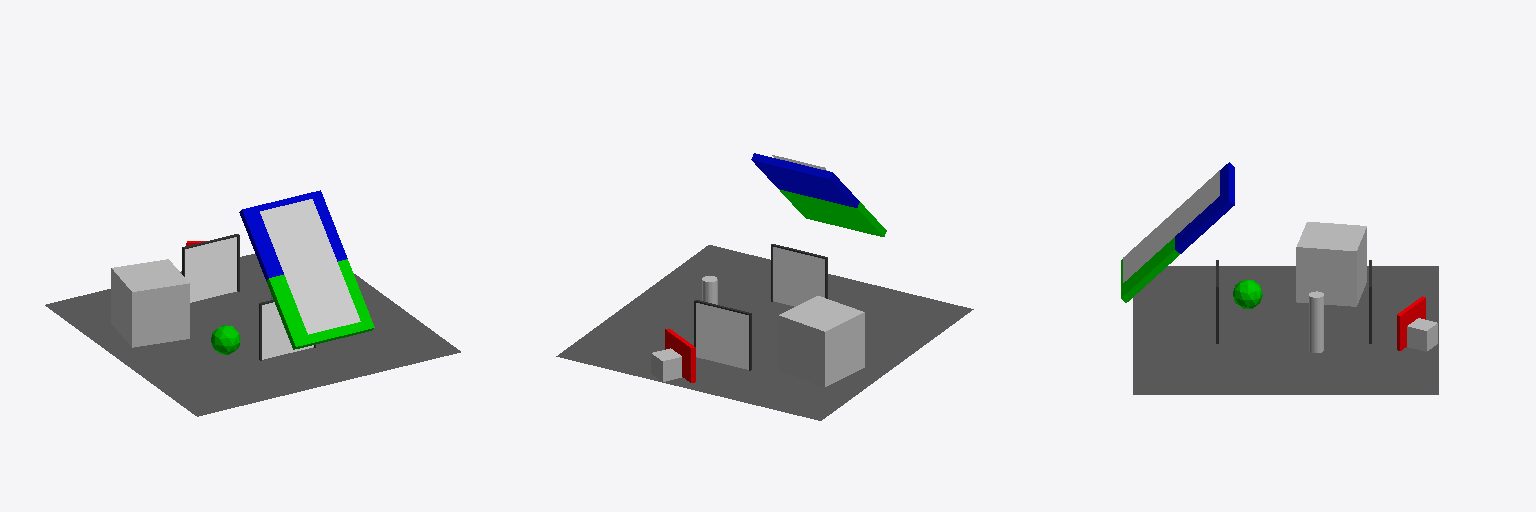
The picture shows the model from 3 angles: view 1: azimuth 30°, elevation 25°; view 2: azimuth 150°, elevation 25°; view 3: azimuth 270°, elevation 25°; orthographic projection.
Parts seen in each view (by area): view 1: Floor, Plane, Gold_Cube.002, Cube, Plane.004, Cube.001, Plane.001, Emerald; view 2: Floor, Gold_Cube.002, Plane.004, Cube.001, Plane.001, Cube, Gold_Cube.001, Cube.002; view 3: Floor, Gold_Cube.002, Plane, Cube.001, Cube, Pillar, Gold_Cube.001, Cube.002, Emerald.
Boxes of the visible parts, x1,y1,x2,y2 form: Floor: [45, 254, 460, 416]; Plane: [260, 199, 360, 334]; Gold_Cube.002: [111, 259, 189, 347]; Cube: [266, 259, 374, 349]; Plane.004: [185, 237, 236, 302]; Cube.001: [239, 190, 347, 280]; Plane.001: [262, 302, 313, 359]; Emerald: [211, 325, 240, 354]; Floor: [556, 245, 973, 420]; Gold_Cube.002: [778, 296, 864, 386]; Plane.004: [696, 303, 748, 369]; Cube.001: [751, 153, 859, 207]; Plane.001: [773, 247, 824, 306]; Cube: [779, 189, 886, 236]; Gold_Cube.001: [651, 348, 681, 381]; Cube.002: [665, 329, 695, 382]; Floor: [1133, 266, 1438, 394]; Gold_Cube.002: [1296, 222, 1366, 306]; Plane: [1123, 170, 1219, 282]; Cube.001: [1175, 162, 1234, 253]; Cube: [1121, 237, 1179, 302]; Pillar: [1309, 291, 1323, 352]; Gold_Cube.001: [1407, 318, 1437, 351]; Cube.002: [1397, 296, 1425, 350]; Emerald: [1233, 280, 1262, 308].
Size of the model in its own units: 20 by 10.78 by 20.78.